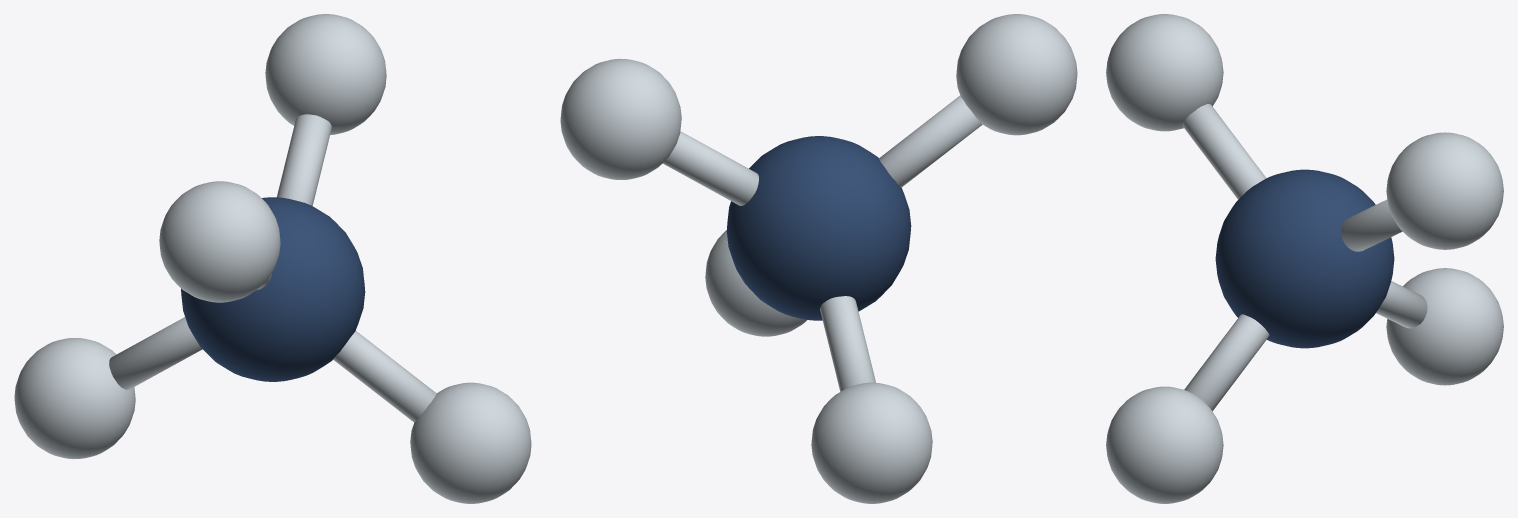
File: methane-molecule-quality.glb
3 renders of one model, left to right at view 1: azimuth 30°, elevation 25°; view 2: azimuth 150°, elevation 25°; view 3: azimuth 270°, elevation 25°, orthographic. The views are drawn at different scales.
Parts seen in each view (by area): view 1: Carbon; view 2: Carbon; view 3: Carbon.
Part boxes in pixels (x1,y1,x2,y2): Carbon: (14,14,531,503); Carbon: (560,14,1077,503); Carbon: (1106,14,1503,503).
Bounding box in the file's own units: 1.56 × 1.56 × 1.56.
